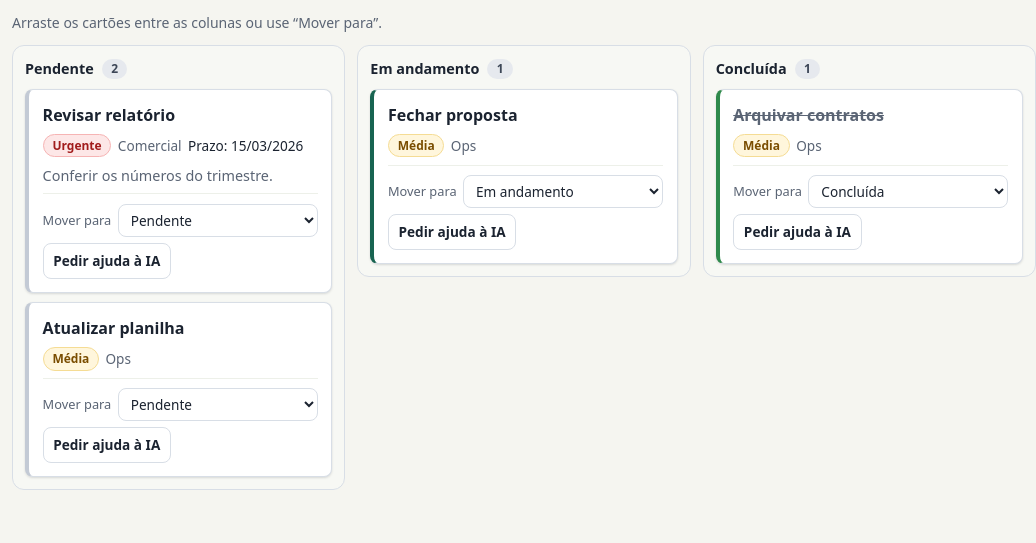
Test: KanbanBoard › puts the card back and shows an alert when the move fails
Select "Concluída" in the dropdown labelled "Mover para" below "Revisar relatório". click: (218, 220)
box: [118, 204, 318, 237]
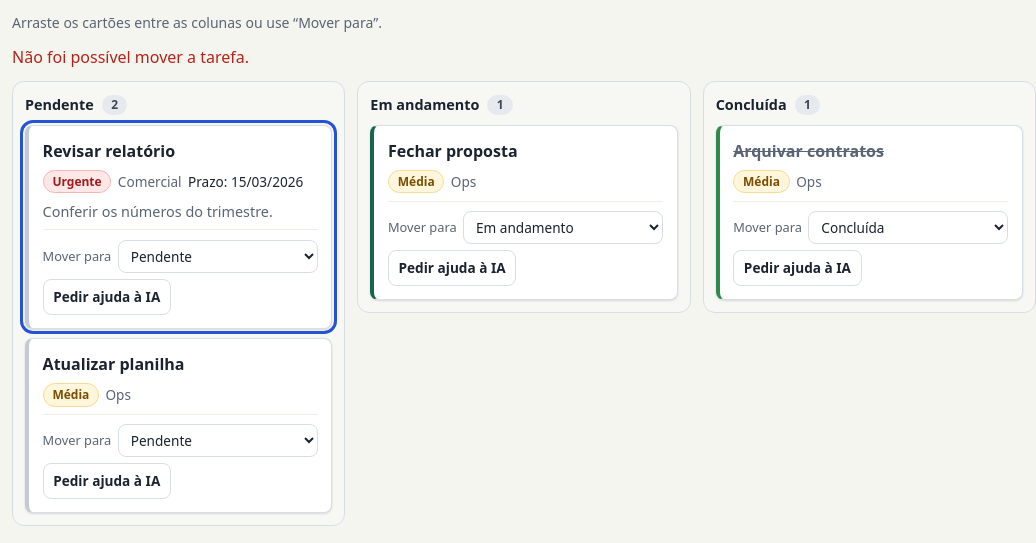
Expected: the heading named "Concluída 1 tarefa" is shown, [716, 95, 820, 115]
Result: the message reads "Não foi possível mover a tarefa." at [12, 46, 249, 68]
